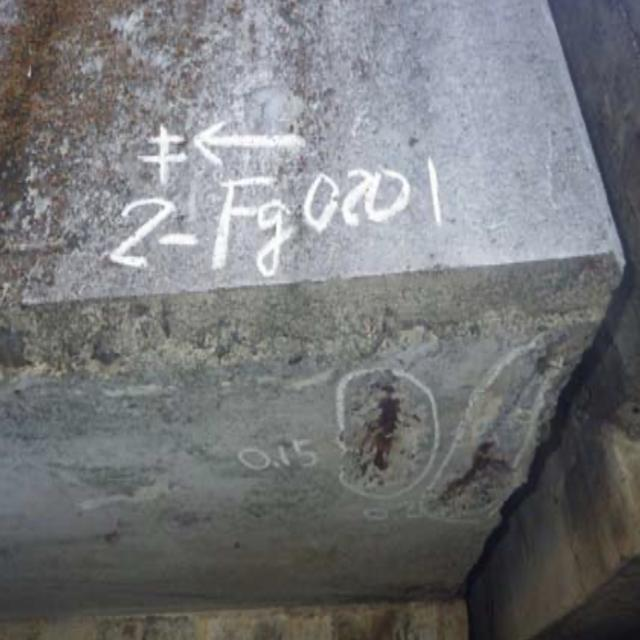spalling: (330, 347, 529, 540)
